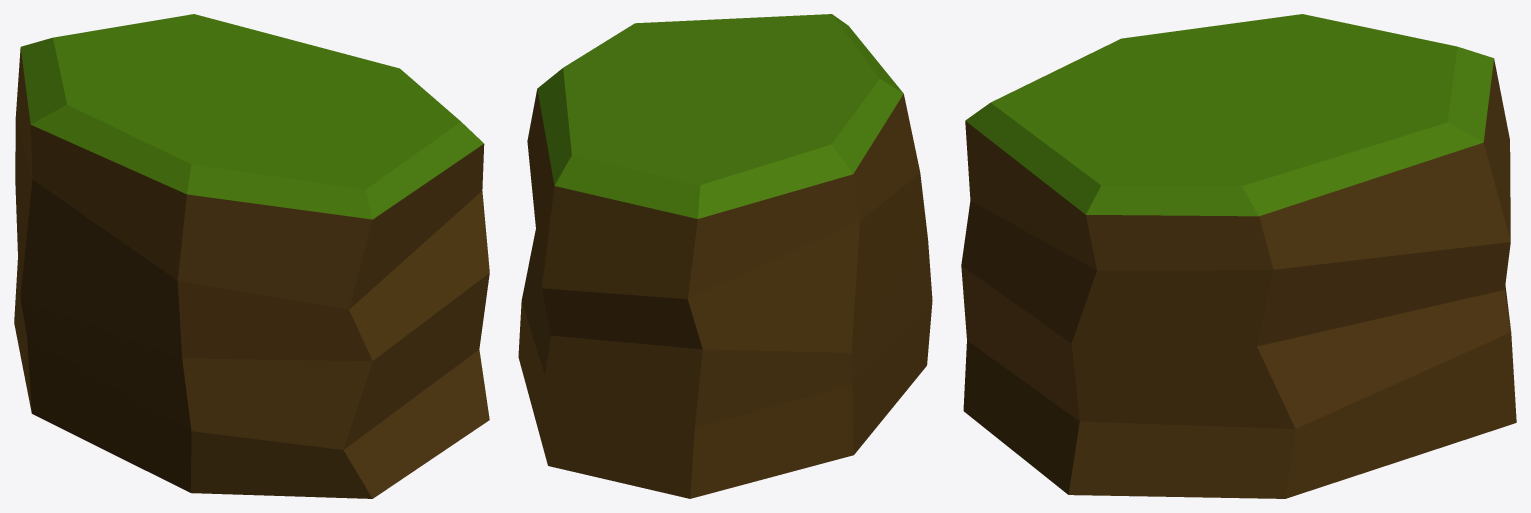
The model's file is LandExtra_4.fbx.
3 views of the same model, side by side, from view 1: azimuth 30°, elevation 25°; view 2: azimuth 150°, elevation 25°; view 3: azimuth 270°, elevation 25° (orthographic). The views are drawn at different scales.
Parts seen in each view (by area): view 1: Plane.002; view 2: Plane.002; view 3: Plane.002.
Boxes of the visible parts, bbox=[...] form: Plane.002: bbox=[14, 14, 489, 498]; Plane.002: bbox=[518, 14, 932, 498]; Plane.002: bbox=[961, 14, 1516, 498].
Bounding box in the file's own units: 398 × 326 × 506.
